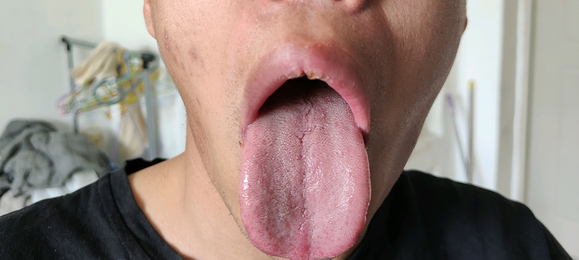baitaishe: (240, 86, 371, 260)
liewenshe: (294, 94, 313, 145)
pangdashe: (240, 86, 371, 260)
